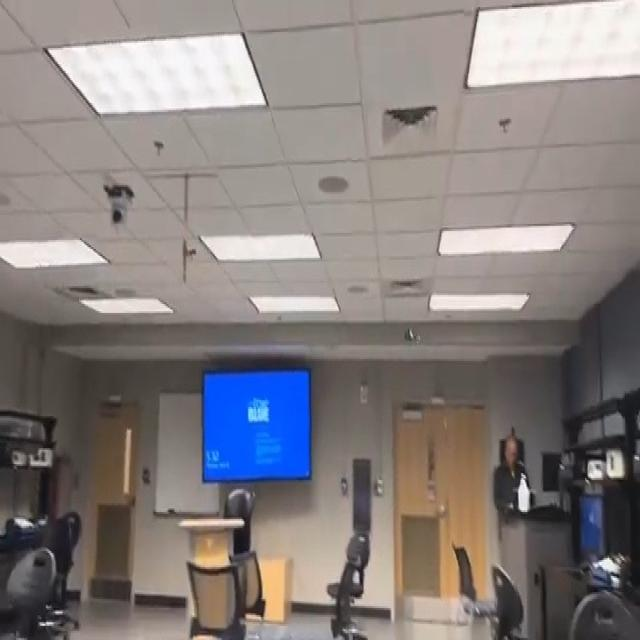drone: (398, 314, 428, 356)
